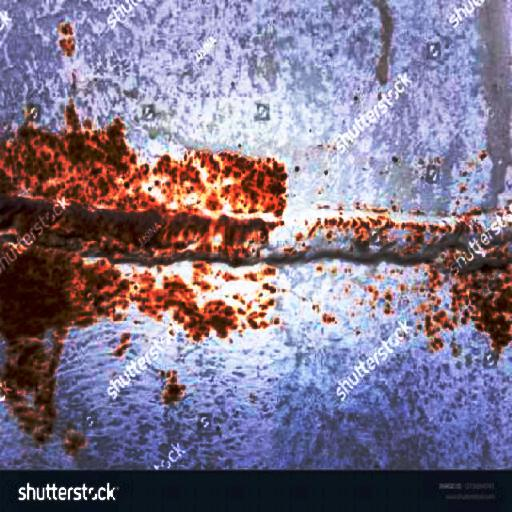corrosion: (4, 120, 291, 453), (430, 272, 512, 346)
